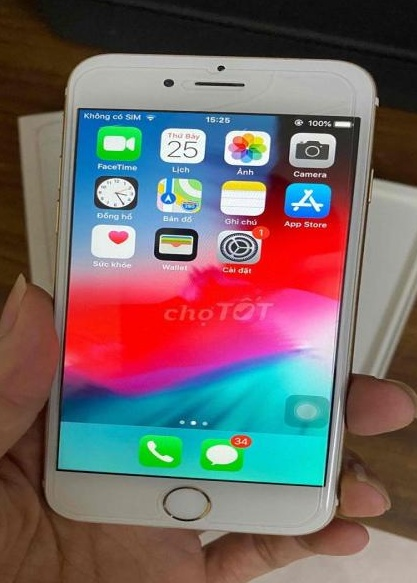screen_defect: (200, 58, 322, 122)
